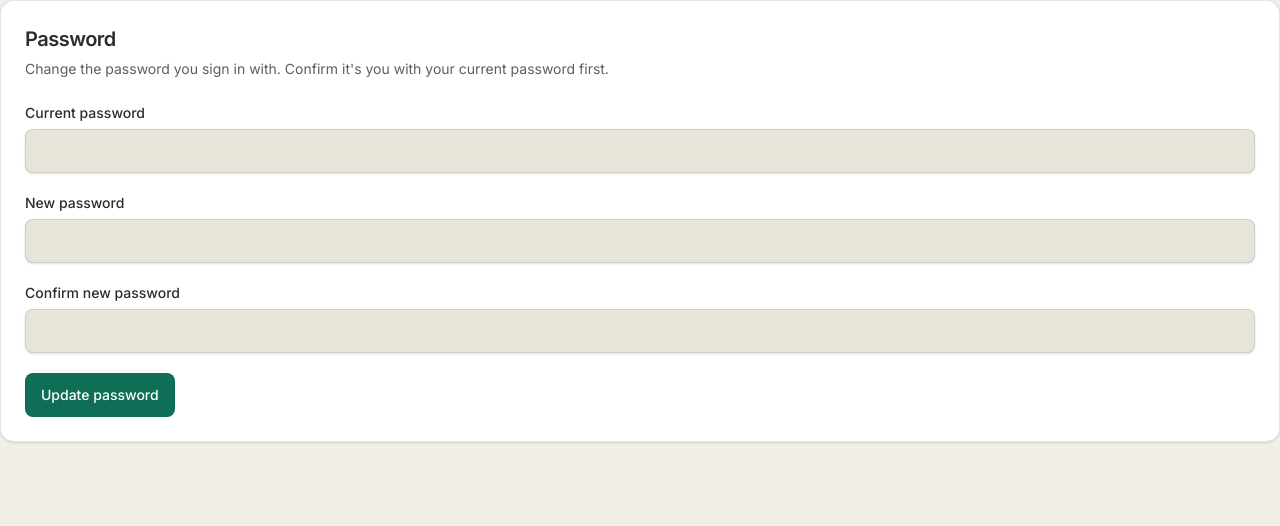
Test: ChangePasswordSection › surfaces a wrong current password returned by the action
The width and height of the screenshot is (1280, 526).
Type "wrongpass1" into the password field labelled "Current password".
click(640, 151); type("wrongpass1")  # box [25,129,1255,173]
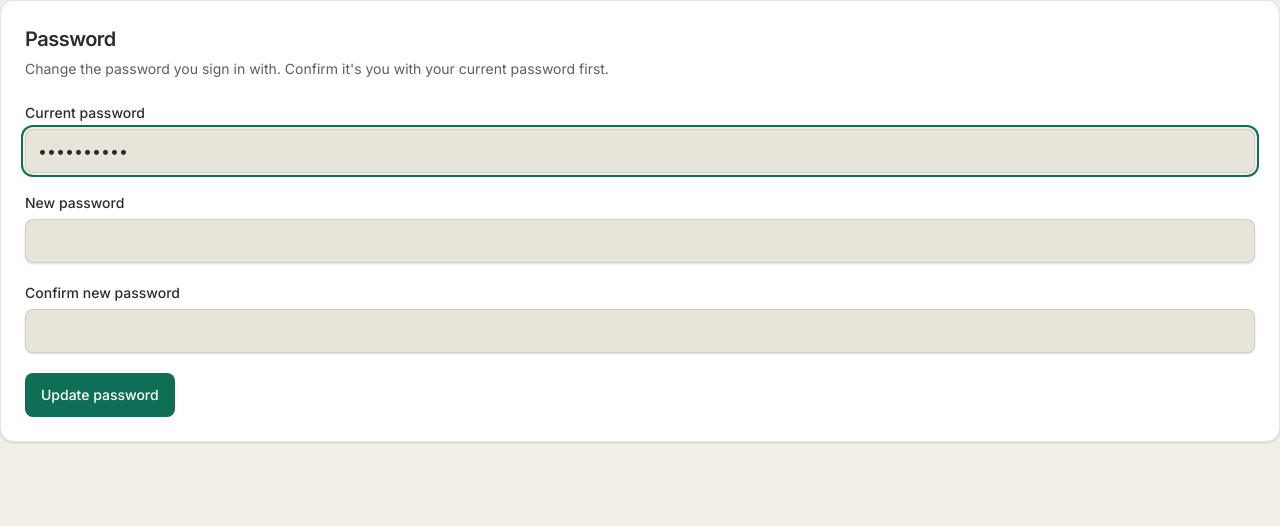
Type "longenough1" into the password field labelled "New password".
click(640, 241); type("longenough1")  # box [25,219,1255,263]
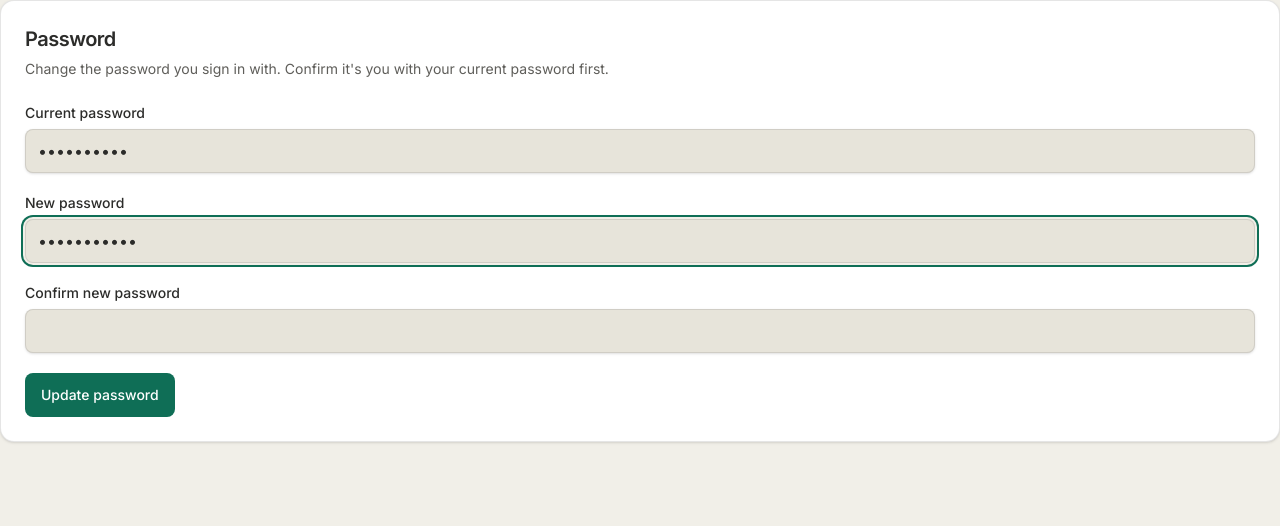
Type "longenough1" into the password field labelled "Confirm new password".
click(640, 331); type("longenough1")  # box [25,309,1255,353]
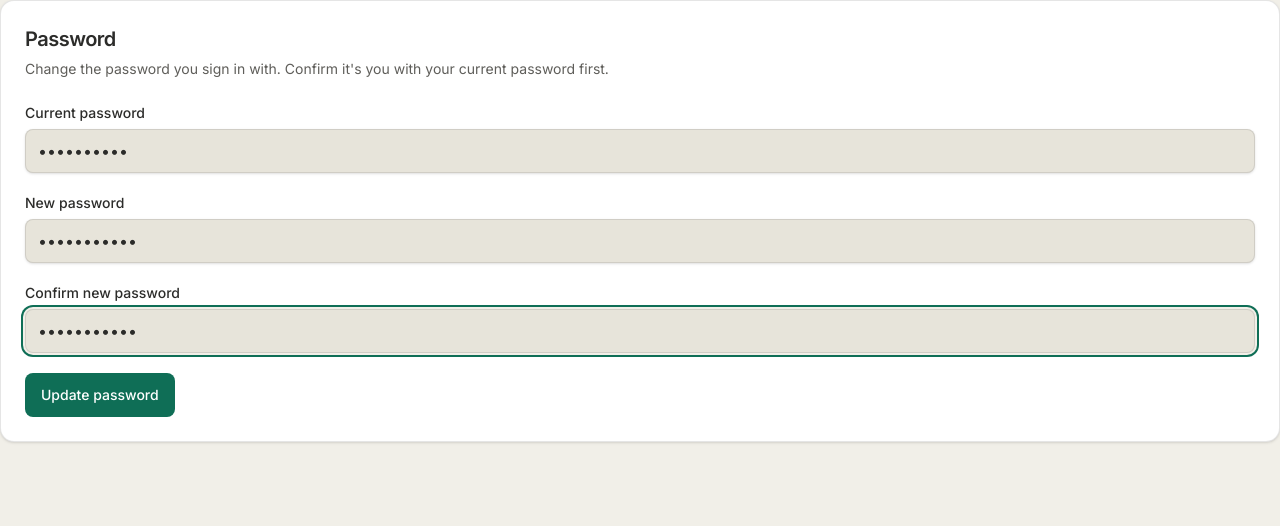
Click the button "Update password".
click(100, 395)  # box [25,373,175,417]
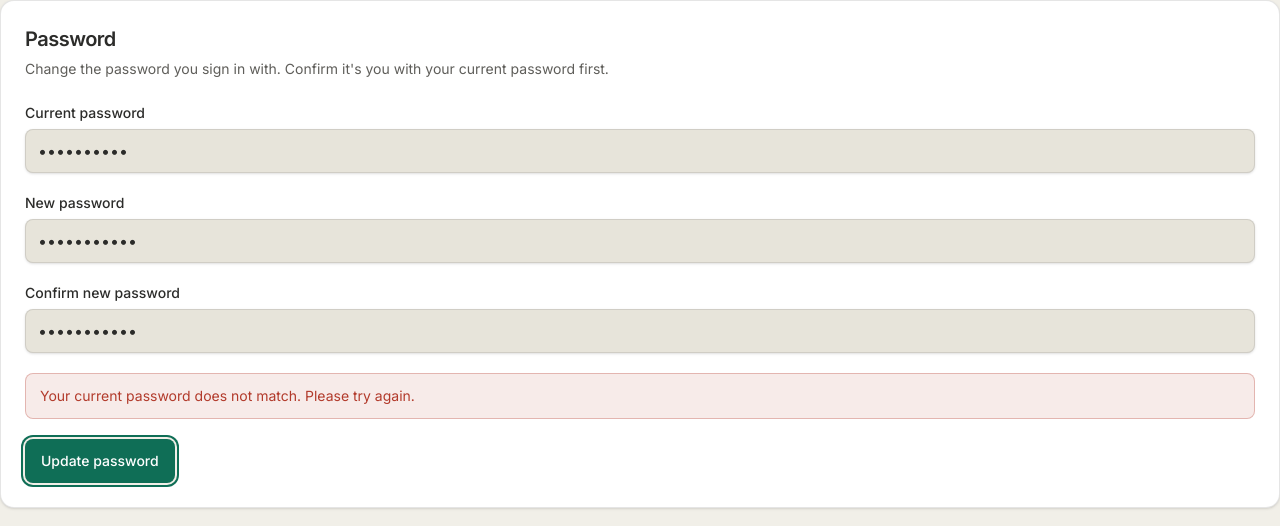
Expected: the message shows "current password does not match", [40,387,415,404]
